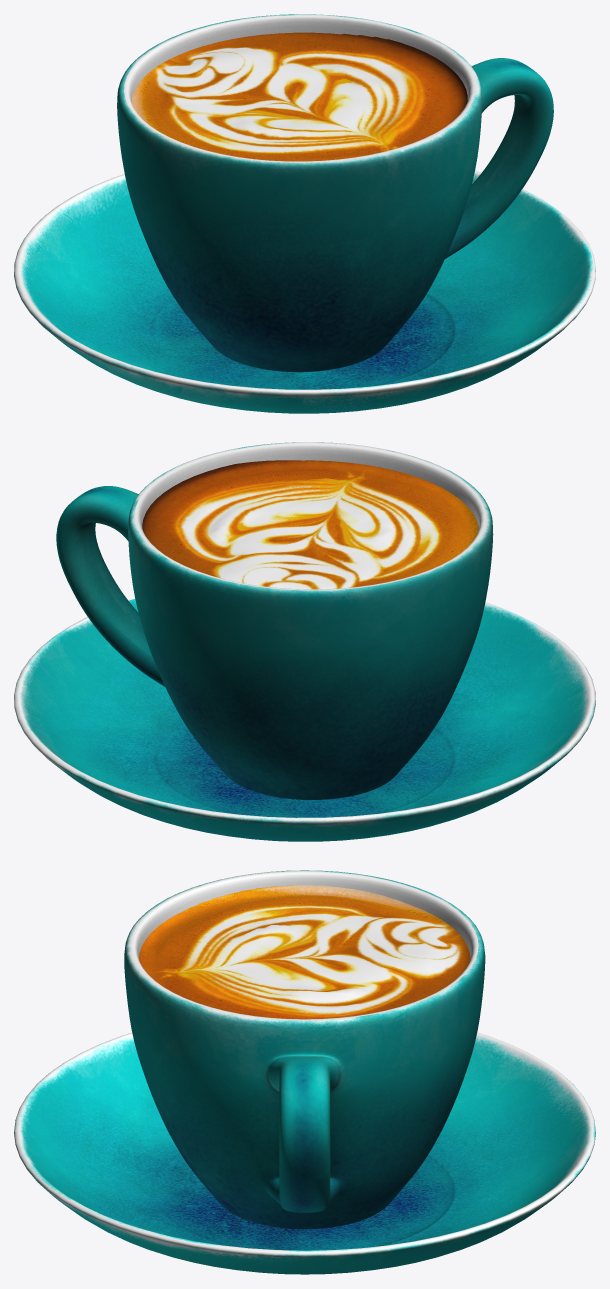
File: coffee_cup_with_plate (1).glb
The picture shows the model from 3 angles, top to bottom: view 1: azimuth 30°, elevation 25°; view 2: azimuth 150°, elevation 25°; view 3: azimuth 270°, elevation 25°; orthographic projection.
Visible parts, largest first — view 1: cup_1, plate_2, coffee_0; view 2: cup_1, plate_2, coffee_0; view 3: cup_1, plate_2, coffee_0.
Boxes of the visible parts, x1=… form: cup_1: x1=117, y1=14, x2=553, y2=372; plate_2: x1=14, y1=170, x2=595, y2=413; coffee_0: x1=131, y1=32, x2=467, y2=161; cup_1: x1=56, y1=442, x2=493, y2=799; plate_2: x1=14, y1=599, x2=595, y2=841; coffee_0: x1=142, y1=460, x2=478, y2=589; cup_1: x1=124, y1=870, x2=485, y2=1229; plate_2: x1=14, y1=1032, x2=595, y2=1274; coffee_0: x1=139, y1=885, x2=470, y2=1019.
Bounding box in the file's own units: 0.1525 × 0.0729 × 0.1525.
Materials: 3 (3 with a texture image).
